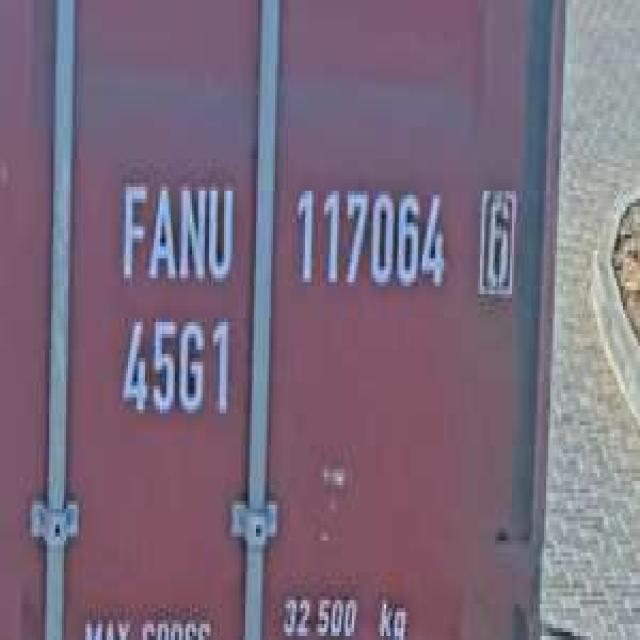dv: (474, 175, 518, 302)
owner: (111, 167, 237, 294)
serial: (288, 171, 450, 306)
size: (113, 306, 237, 429)
